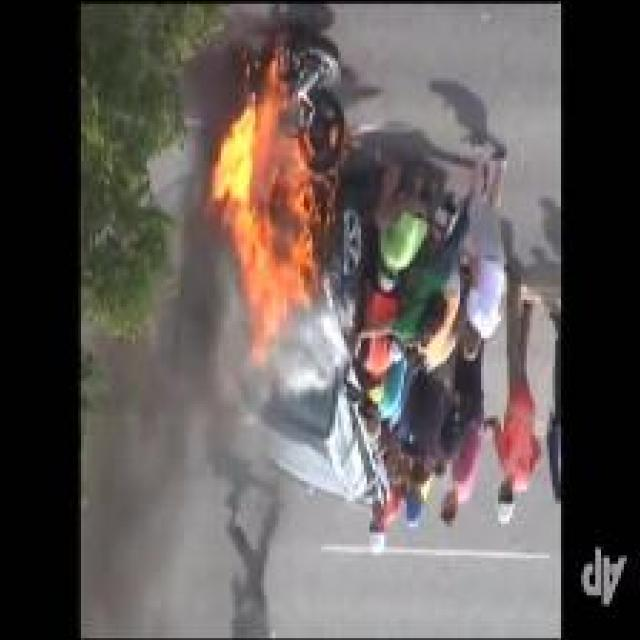Fire: (213, 54, 336, 366)
